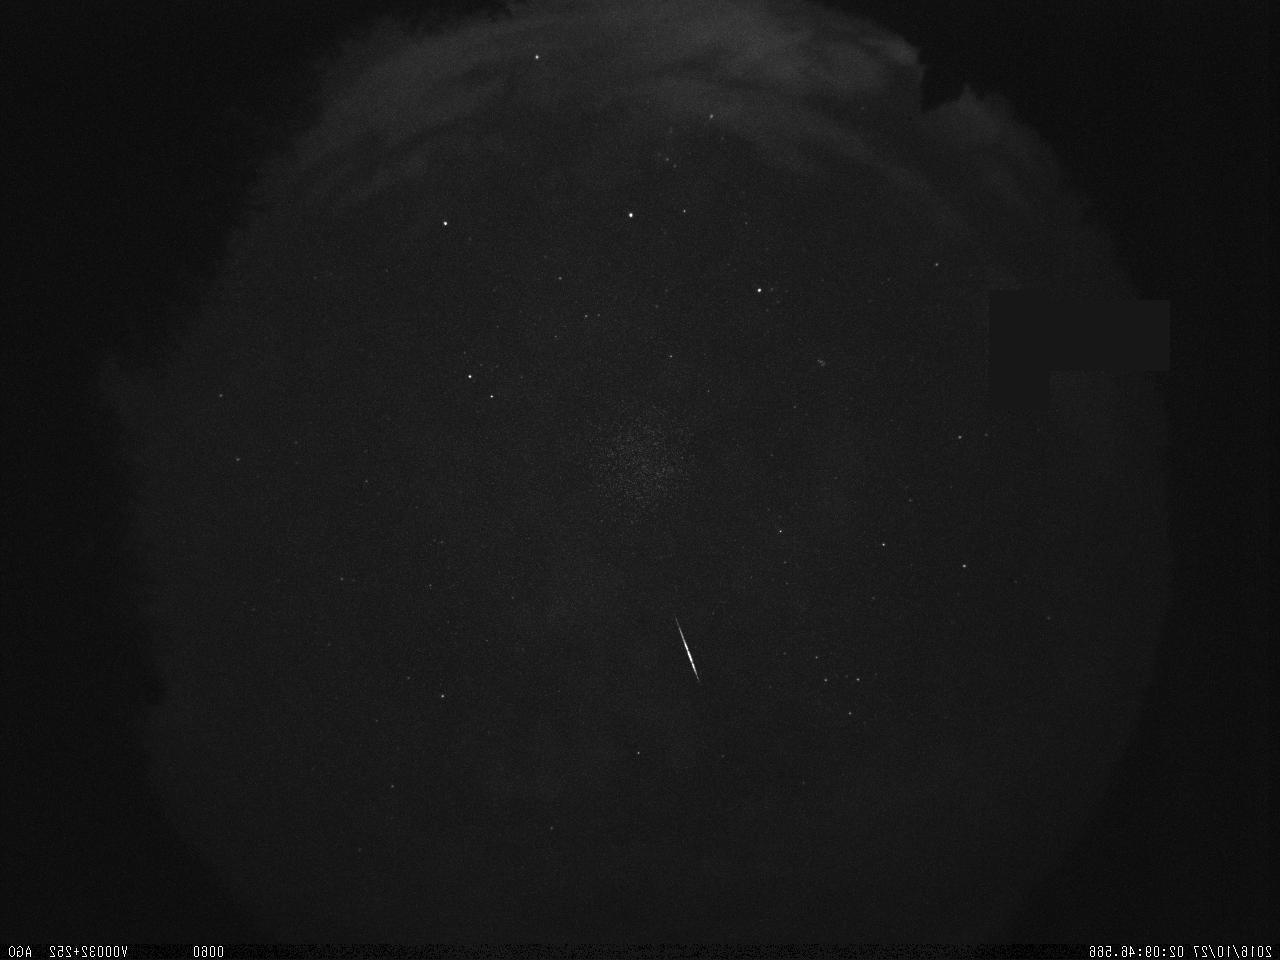meteor: (656, 616, 725, 689)
